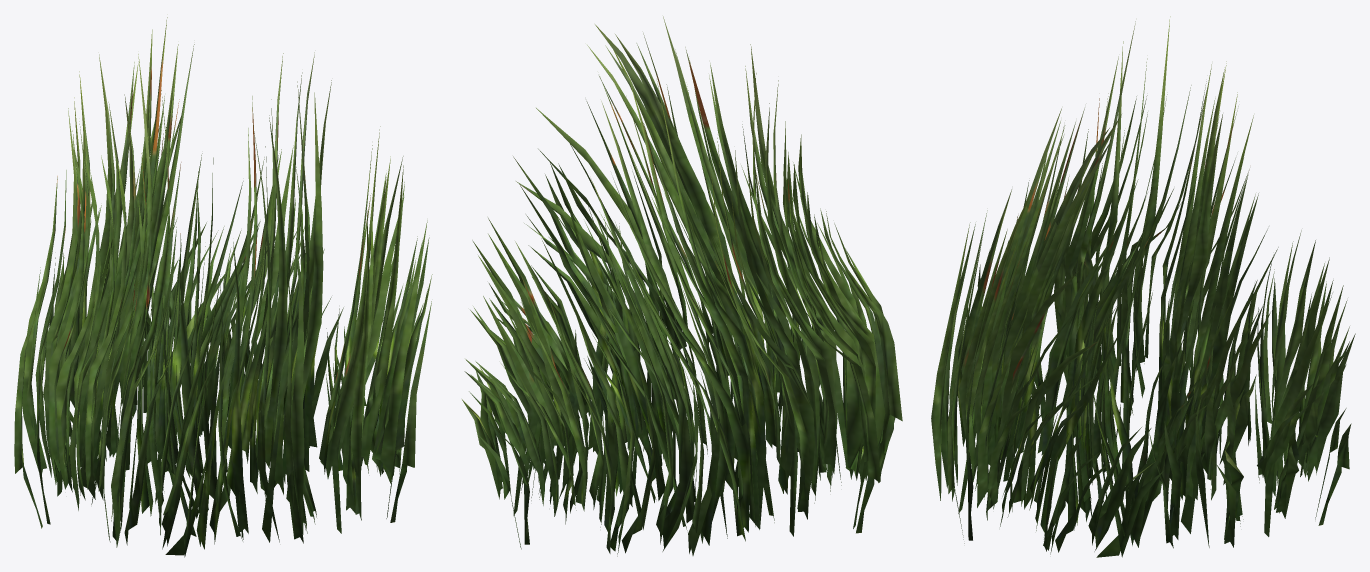
File: plant_68.fbx
3 views of the same model, side by side, from view 1: azimuth 30°, elevation 25°; view 2: azimuth 150°, elevation 25°; view 3: azimuth 270°, elevation 25° (orthographic). The views are drawn at different scales.
Parts seen in each view (by area): view 1: aquatic11; view 2: aquatic11; view 3: aquatic11.
Part boxes in pixels (x1=…): aquatic11: x1=14, y1=17, x2=432, y2=557; aquatic11: x1=462, y1=16, x2=902, y2=556; aquatic11: x1=931, y1=16, x2=1355, y2=557.
Bounding box in the file's own units: 3.15 × 3.64 × 3.14.
